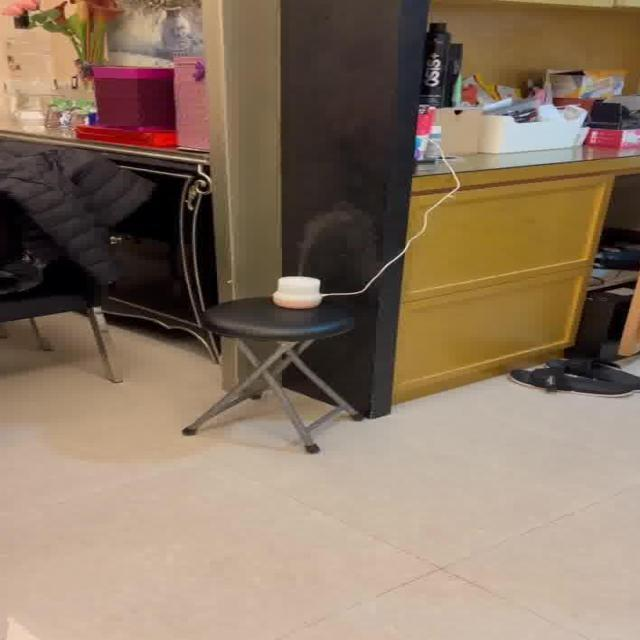fire: (291, 207, 373, 272)
